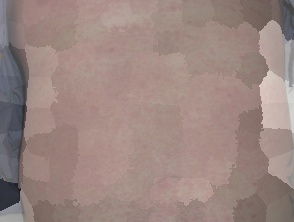SJS-TEN: (5, 0, 294, 222)
